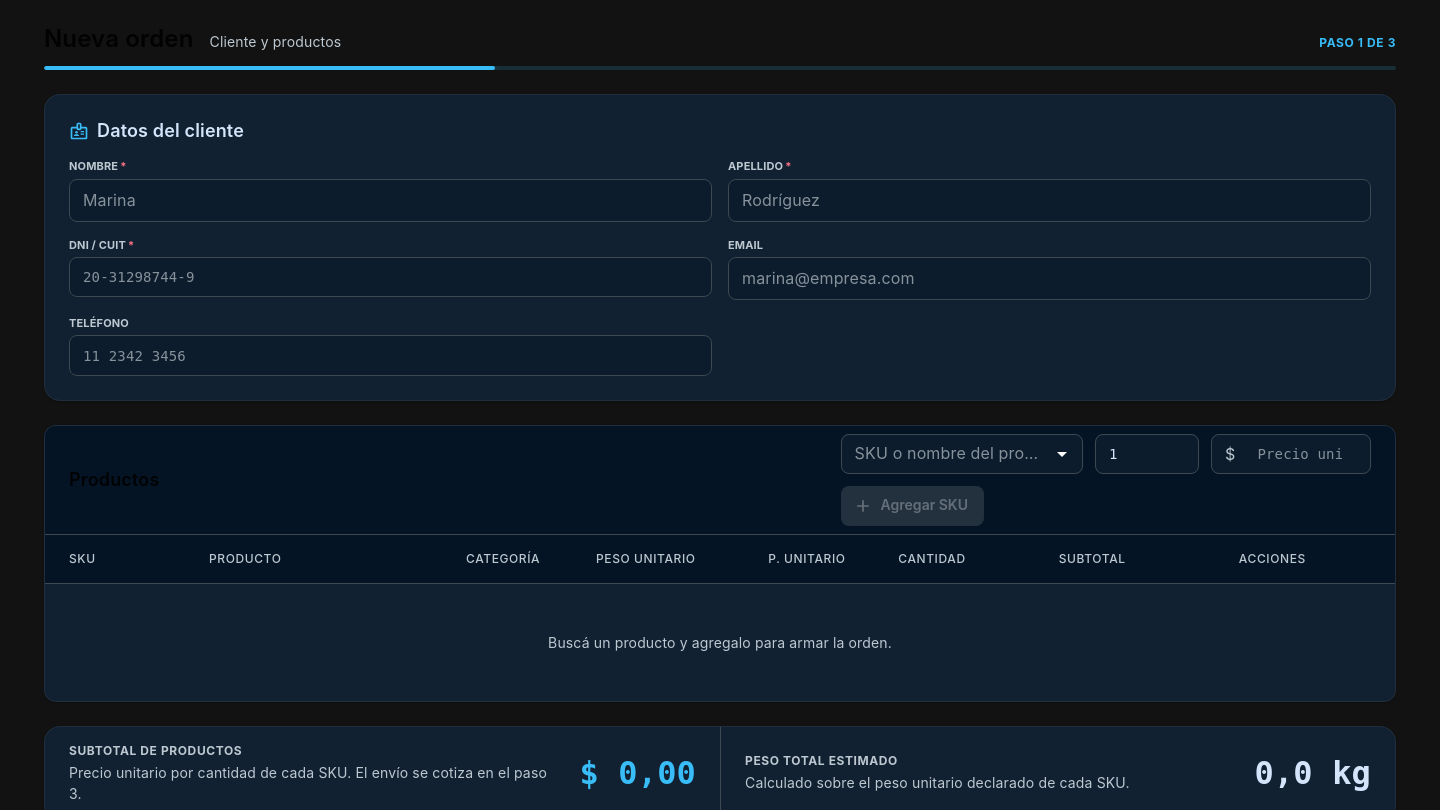
Test: NewOrderPage › recalculates when the quantity of a line changes in the table
Type "PX-9021" into the dropdown named "Buscar por SKU o nombre" at (945, 454), box [847,440,1044,468]
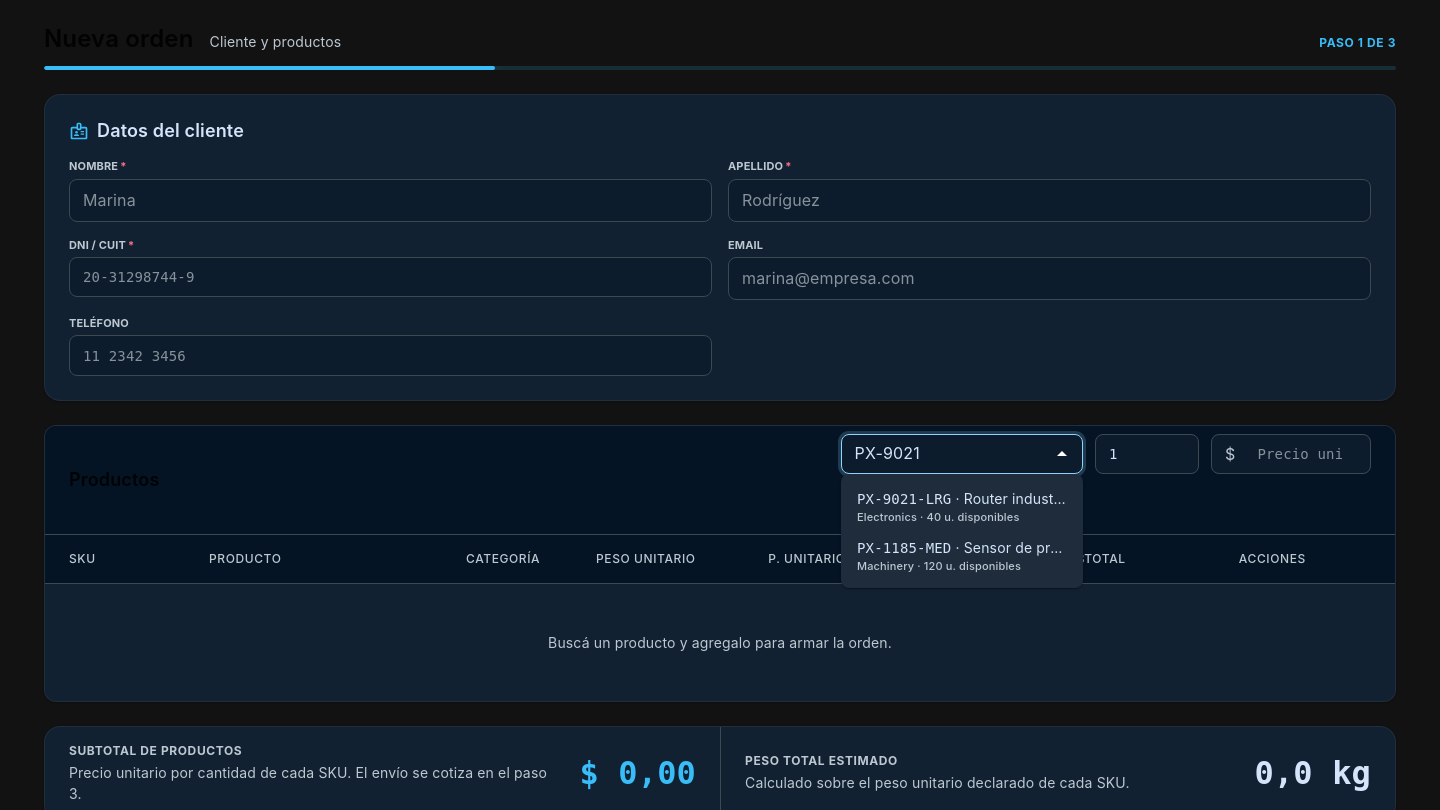
Click the option "PX-9021" at (962, 506), box [841,482,1083,531]
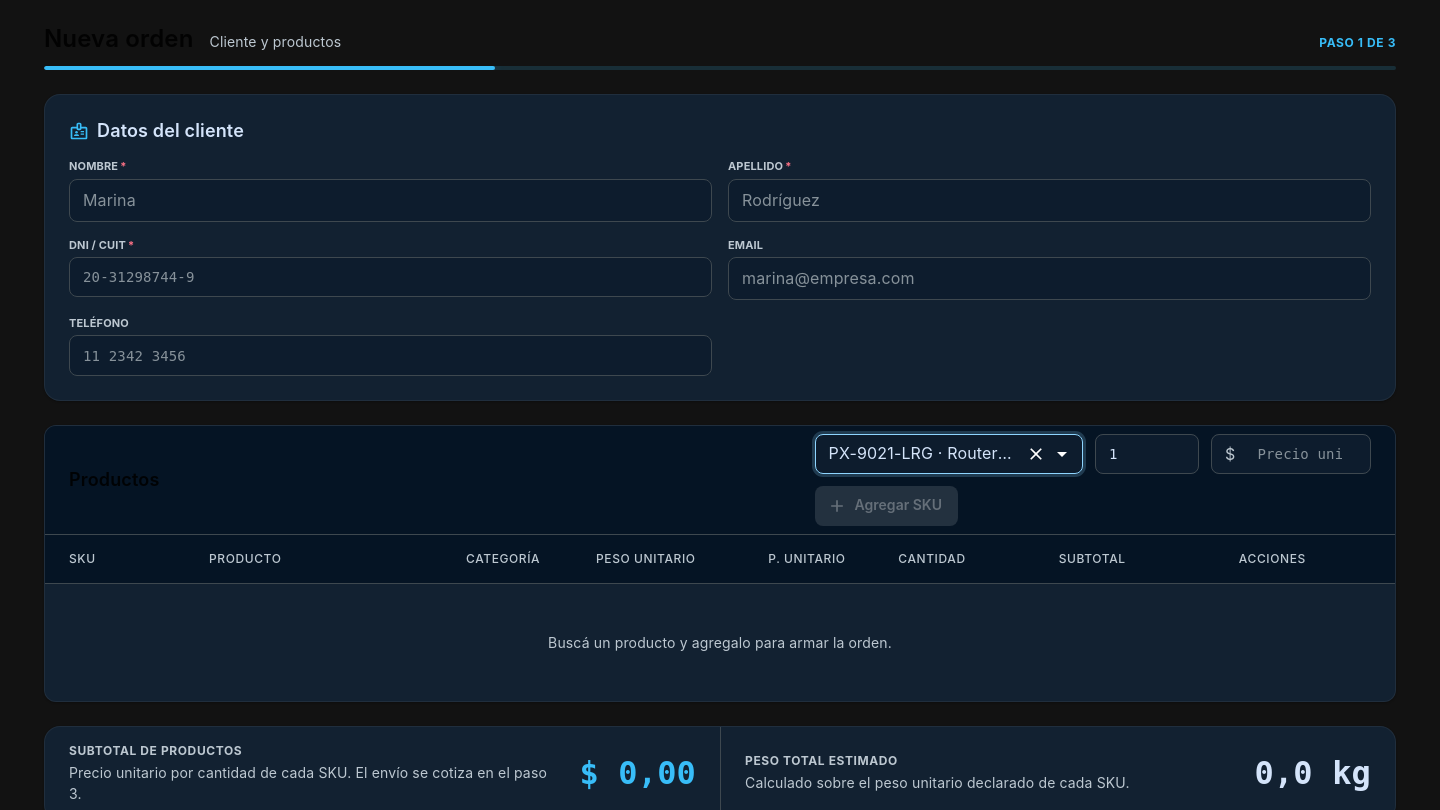
Replace the text in the number field named "Cantidad" with "12" at (1147, 454), box [1095,434,1199,474]
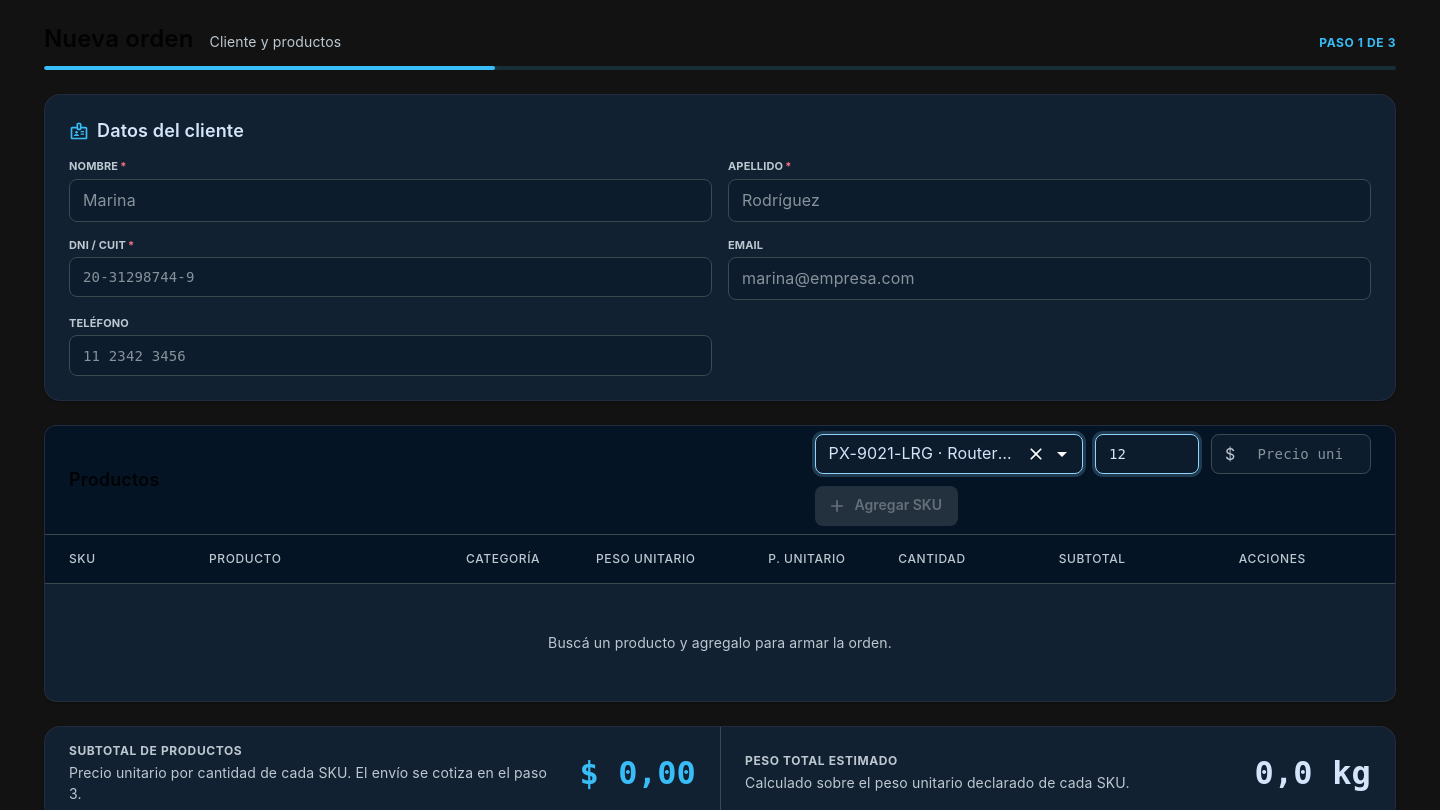
Type "120000" into the number field labelled "Precio unitario" at (1307, 454), box [1243,434,1371,474]
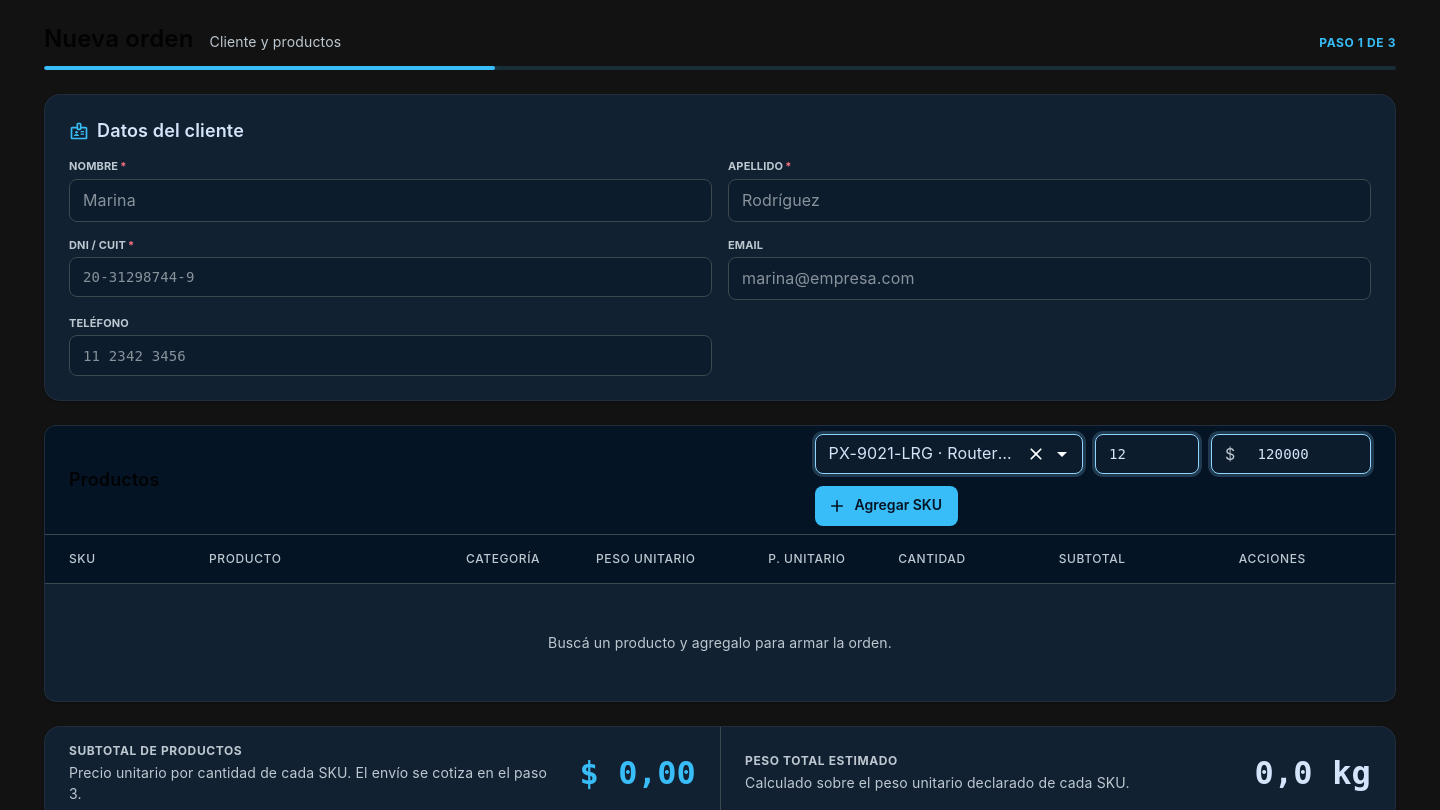
Click the button "Agregar SKU" at (886, 506), box [815,486,958,526]
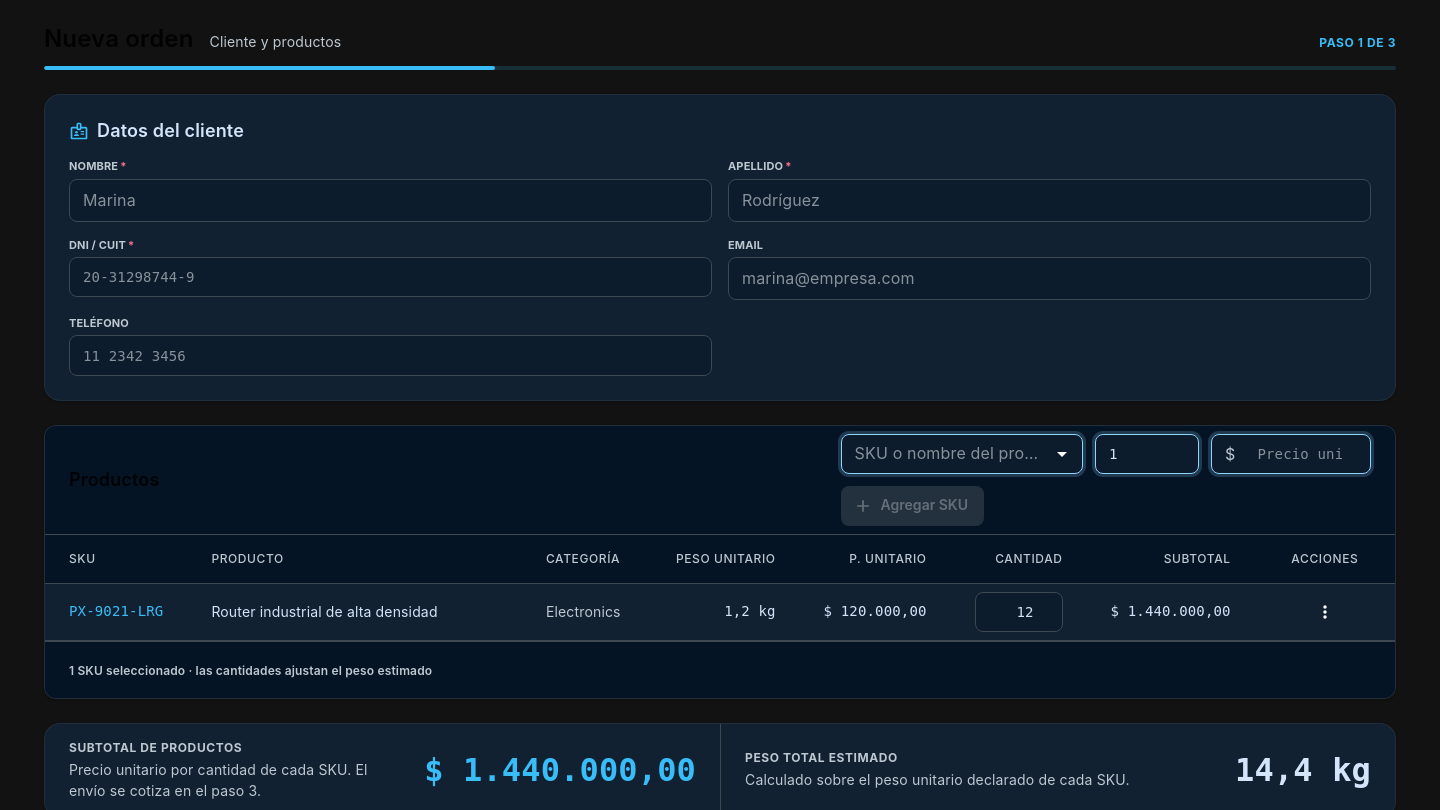
Replace the text in the number field named "Cantidad de PX-9021-LRG" with "2" at (1019, 612), box [975,592,1063,632]
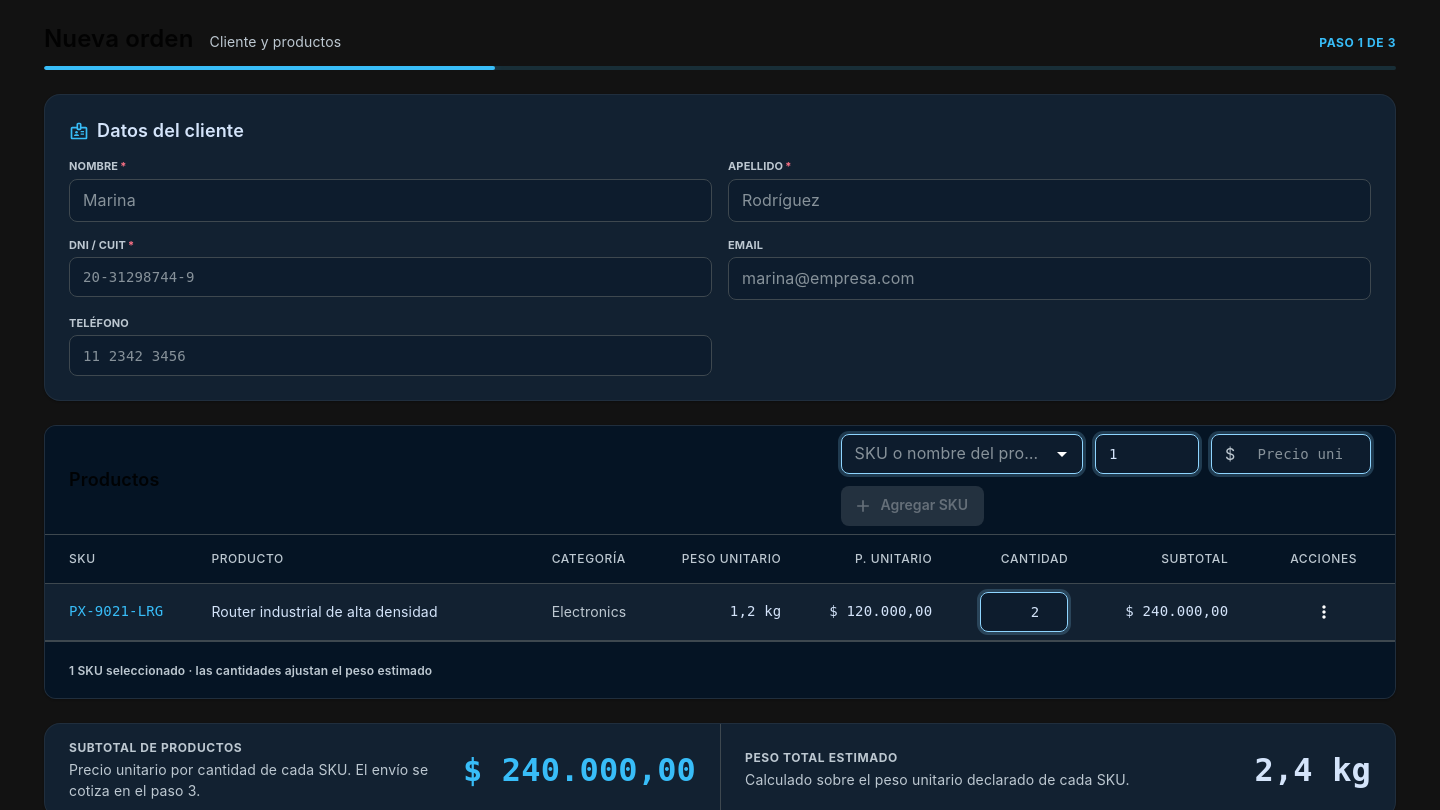
Expected: the text named "Subtotal de productos" shows "240.000,00", [463,751,696,789]
Expected: the text named "Peso total estimado" reads "2,4 kg", [1254,751,1371,789]
